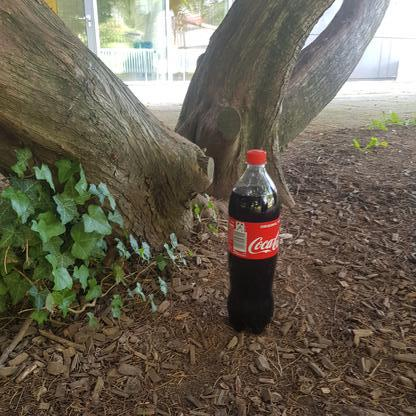coca-cola: (225, 146, 282, 339)
